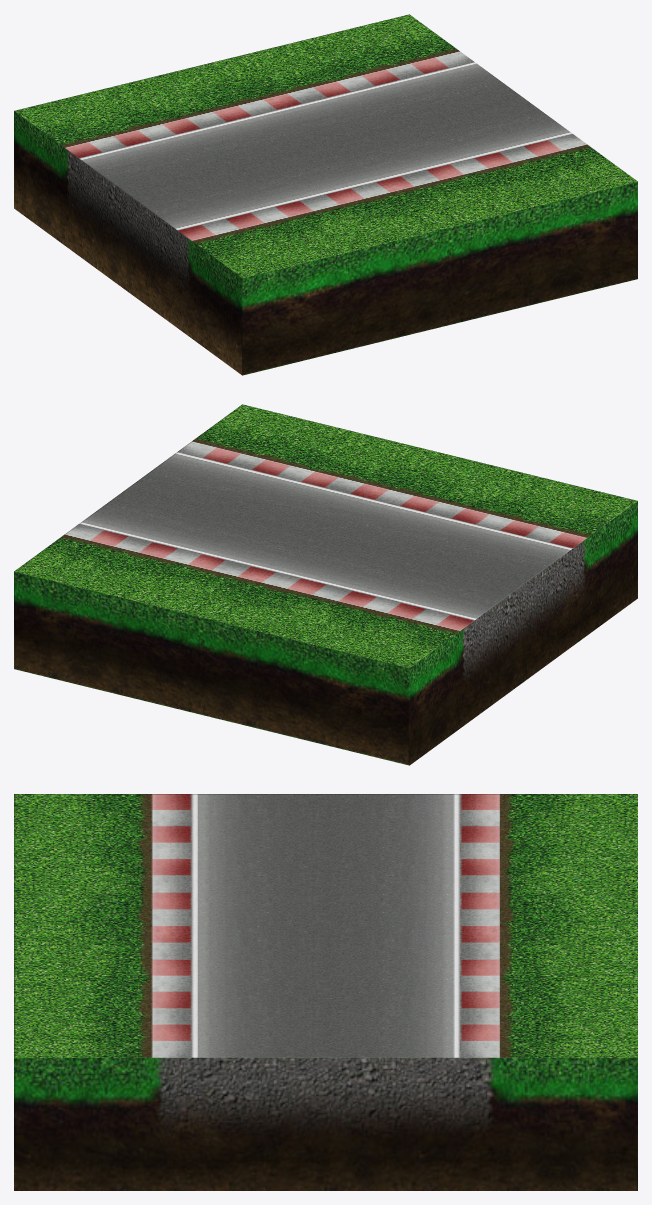
The model's file is road straight.fbx.
3 views of the same model, one above another, from view 1: azimuth 30°, elevation 25°; view 2: azimuth 150°, elevation 25°; view 3: azimuth 270°, elevation 25° (orthographic). The views are drawn at different scales.
Visible parts, largest first — view 1: road straight 1; view 2: road straight 1; view 3: road straight 1.
Boxes of the visible parts, <box> form: road straight 1: <box>14,14,637,375</box>; road straight 1: <box>14,404,637,765</box>; road straight 1: <box>14,794,637,1190</box>.
Bounding box in the file's own units: 390 × 91.83 × 390.
